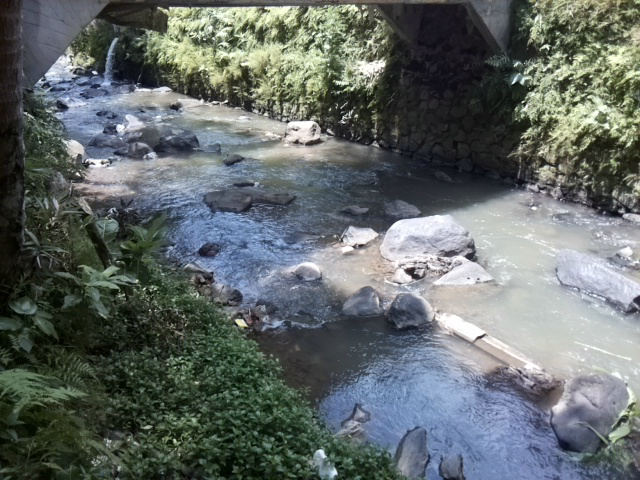Sampah_Styrofoam: (235, 317, 247, 327)
